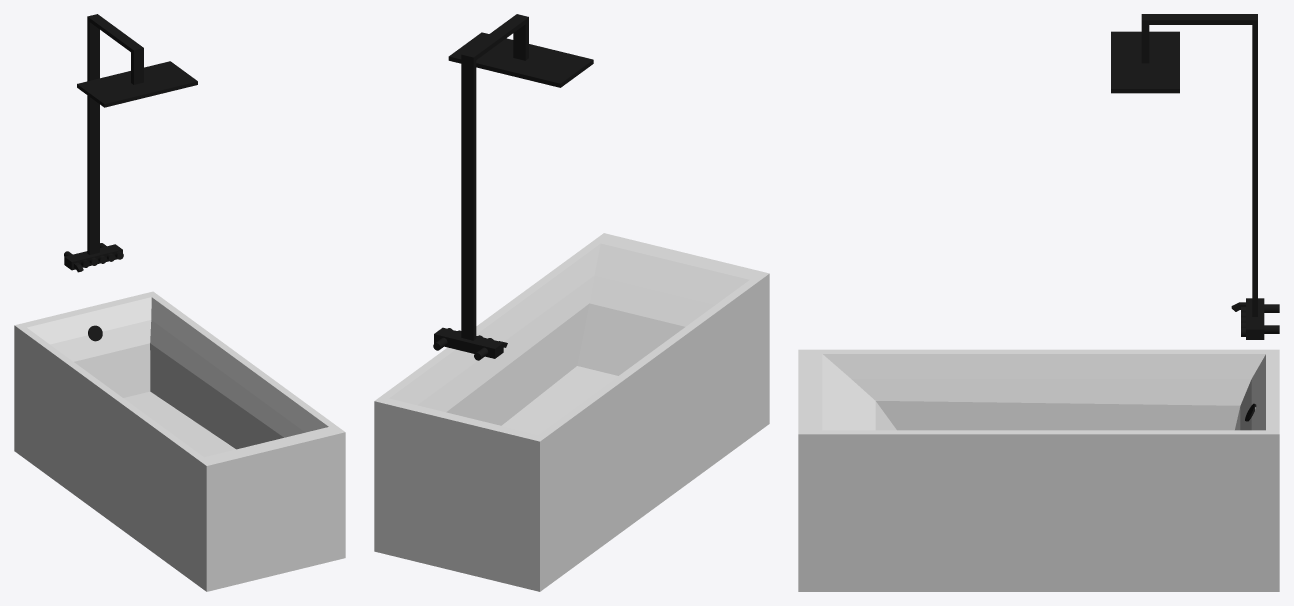
Rendered from bath_and_shower.fbx.
3 views of the same model, side by side, from view 1: azimuth 30°, elevation 25°; view 2: azimuth 150°, elevation 25°; view 3: azimuth 270°, elevation 25° (orthographic). The views are drawn at different scales.
Parts seen in each view (by area): view 1: bath_and_shower_Baked; view 2: bath_and_shower_Baked; view 3: bath_and_shower_Baked.
Part boxes in pixels (x1,y1,x2,y2): bath_and_shower_Baked: [14, 14, 345, 591]; bath_and_shower_Baked: [374, 14, 769, 591]; bath_and_shower_Baked: [798, 14, 1279, 591].
Bounding box in the file's own units: 75 × 220 × 180.
Materials: 1 (1 with a texture image).
